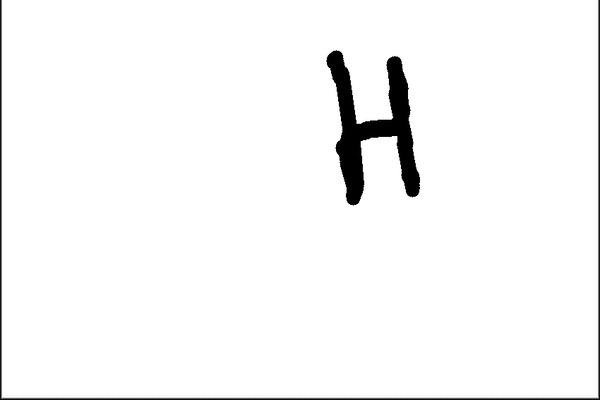H: (319, 41, 434, 209)
